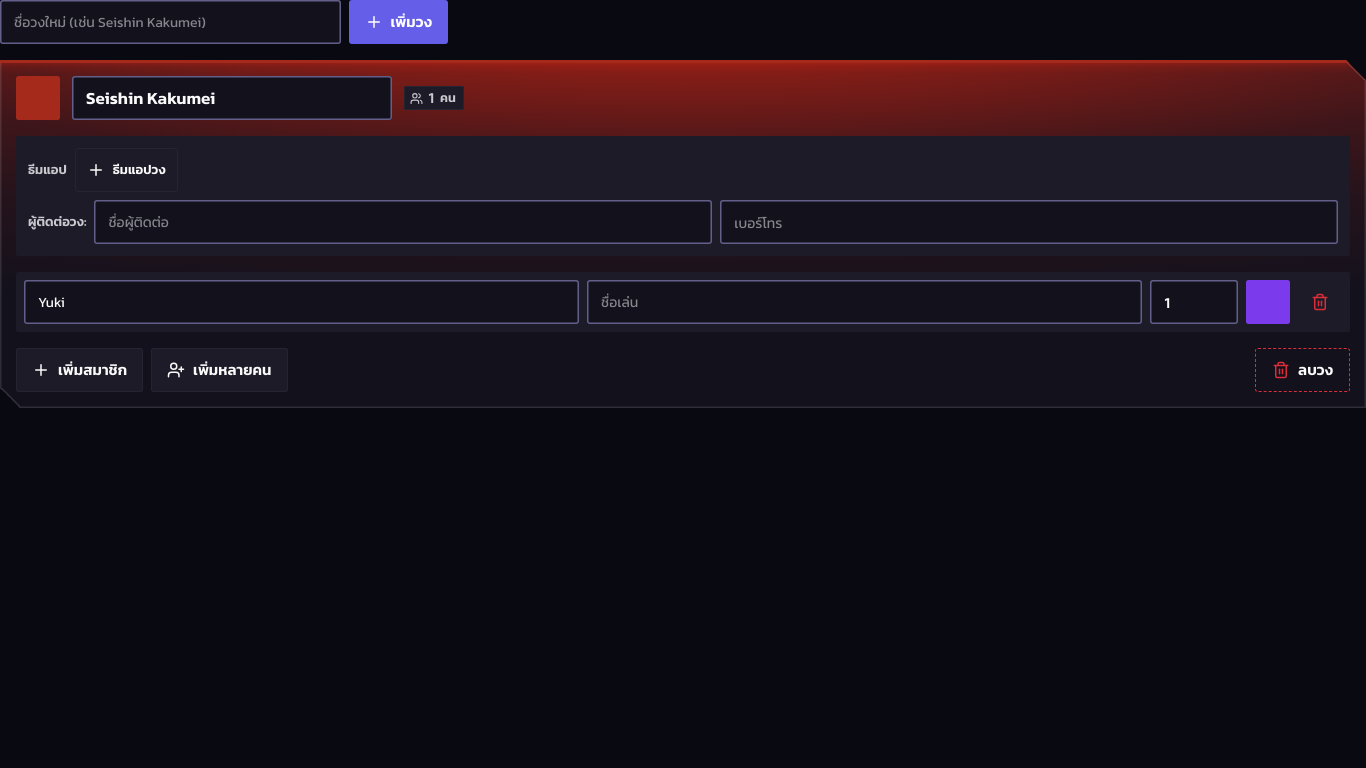
Test case: Artists: a member with history leaves the band instead of being deleted › a row with no history at all (added by mistake) keeps the plain one-tap delete
The image size is (1366, 768).
Click the button named "ลบสมาชิก" at (1320, 302), box top-left (1298, 280), bottom-right (1342, 324)
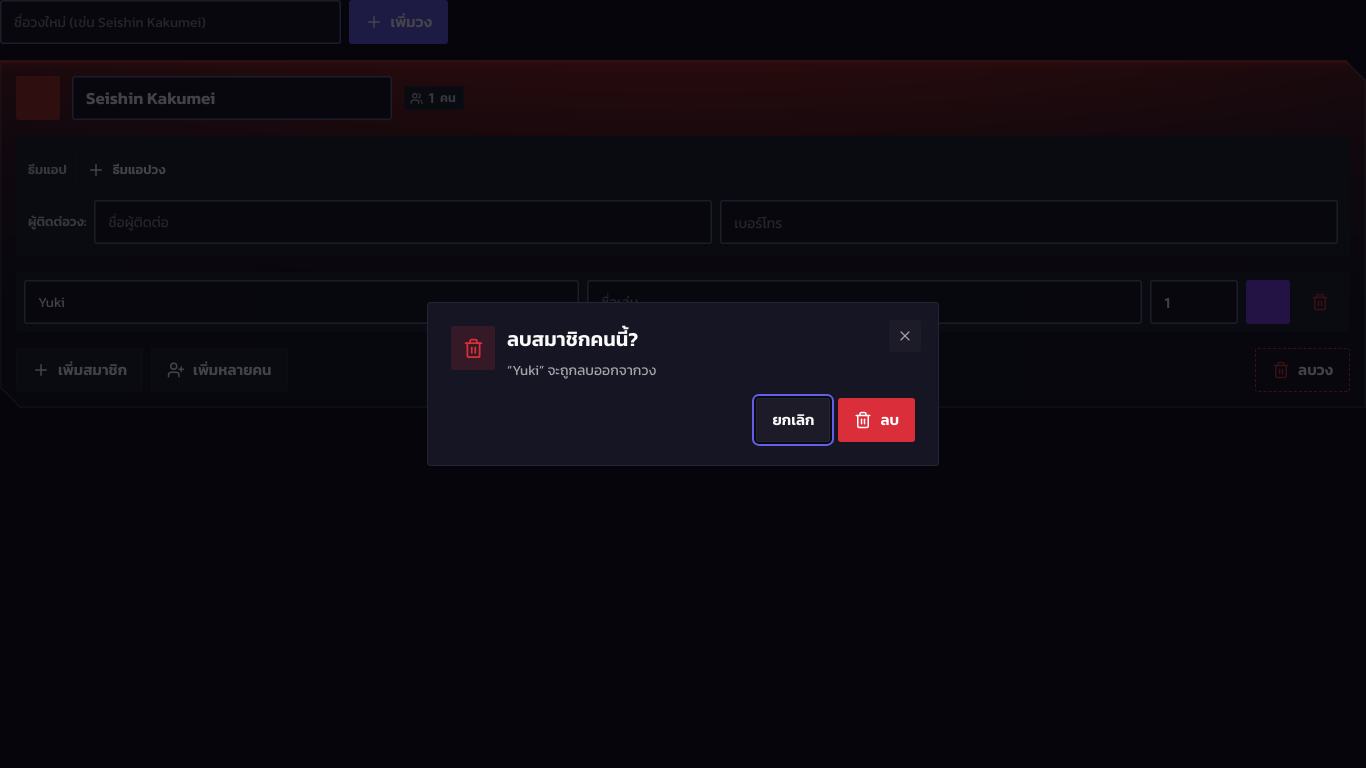
Expected: the text "“Yuki” จะถูกลบออกจากวง" is shown, top-left (507, 359), bottom-right (656, 382)
